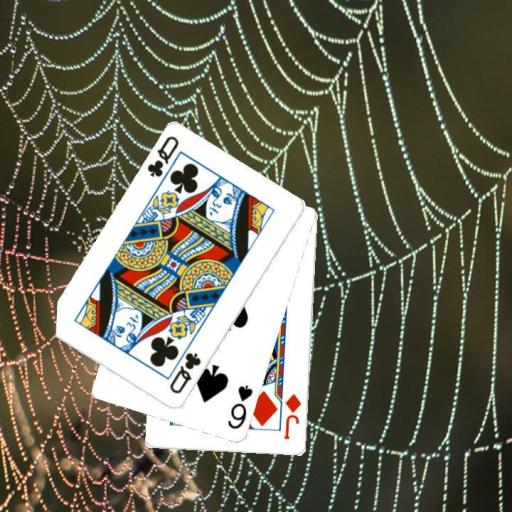6S: (225, 382, 255, 431)
JD: (281, 390, 303, 441)
QC: (166, 349, 203, 396), (144, 133, 181, 179)
